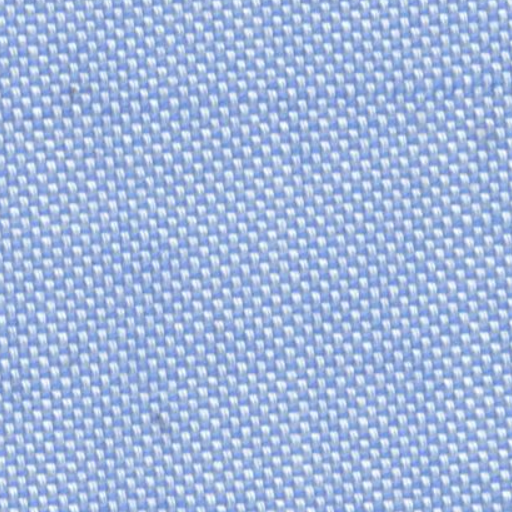TuoSha: (9, 56, 490, 135)
